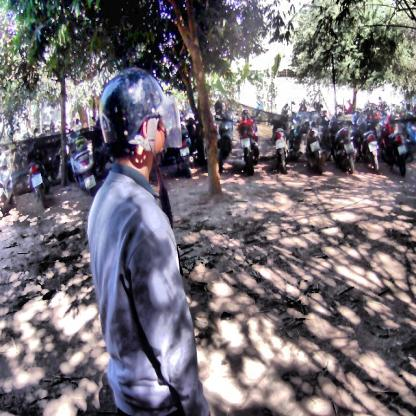wear: (101, 69, 176, 166)
